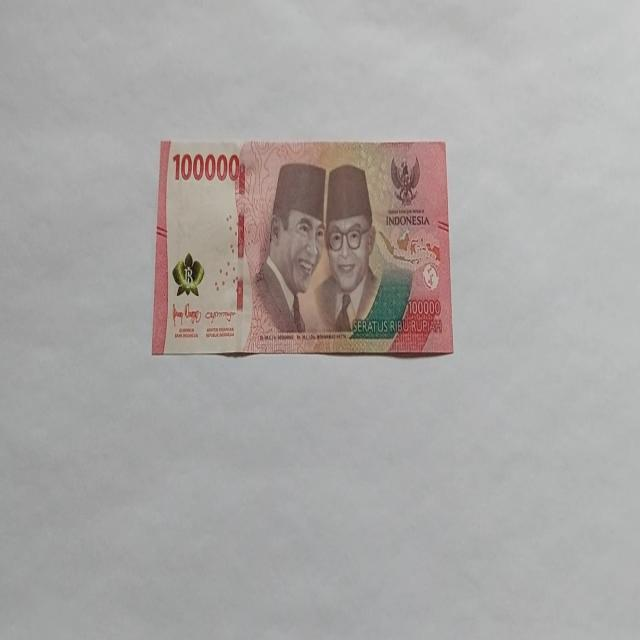seratus ribu rupiah: (152, 136, 454, 358)
